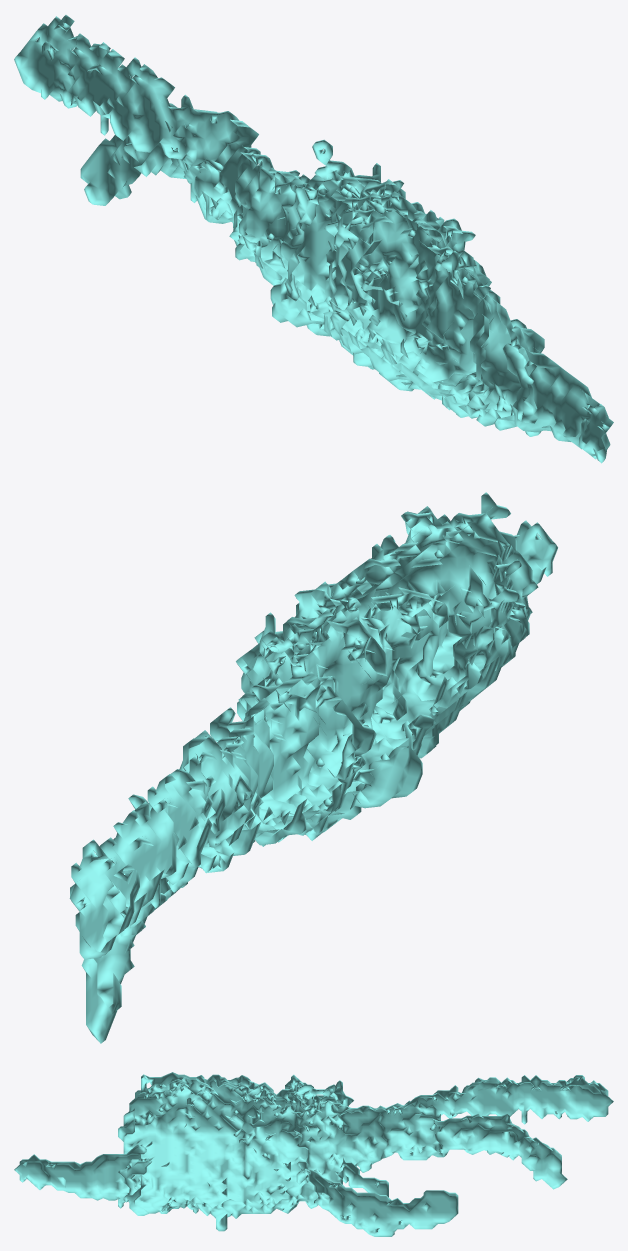
File: osteocyte_78.glb
3 views of the same model, one above another, from view 1: azimuth 30°, elevation 25°; view 2: azimuth 150°, elevation 25°; view 3: azimuth 270°, elevation 25° (orthographic). The views are drawn at different scales.
Parts seen in each view (by area): view 1: osteocyte_78; view 2: osteocyte_78; view 3: osteocyte_78.
Boxes of the visible parts, x1,y1,x2,y2 form: osteocyte_78: [14, 15, 613, 463]; osteocyte_78: [69, 492, 557, 1043]; osteocyte_78: [14, 1072, 613, 1236].
Size of the model in its own units: 10.11 by 12.52 by 50.07.
